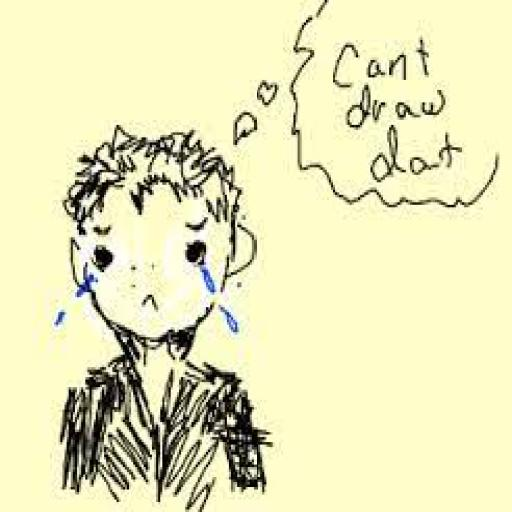person: (42, 126, 276, 510)
